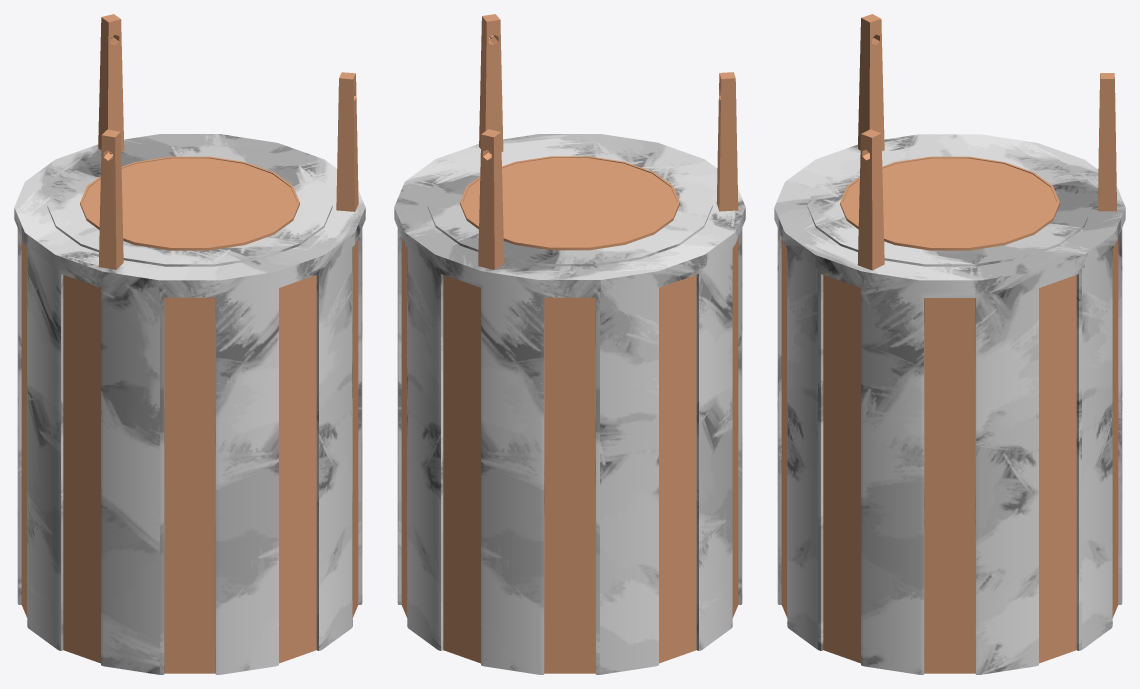
Rendered from Pedestal_A.fbx.
3 renders of one model, left to right at view 1: azimuth 30°, elevation 25°; view 2: azimuth 150°, elevation 25°; view 3: azimuth 270°, elevation 25°, orthographic.
Parts seen in each view (by area): view 1: Cylinder, Cube.011; view 2: Cylinder, Cube.011; view 3: Cylinder, Cube.011.
Part boxes in pixels (x1=…): Cylinder: x1=14, y1=134, x2=365, y2=674; Cube.011: x1=98, y1=14, x2=358, y2=269; Cylinder: x1=394, y1=134, x2=745, y2=674; Cube.011: x1=478, y1=14, x2=738, y2=269; Cylinder: x1=774, y1=134, x2=1125, y2=674; Cube.011: x1=857, y1=14, x2=1116, y2=270.
Size of the model in its own units: 3620 by 6090 by 3676.
